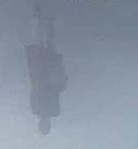person: (22, 12, 66, 134)
